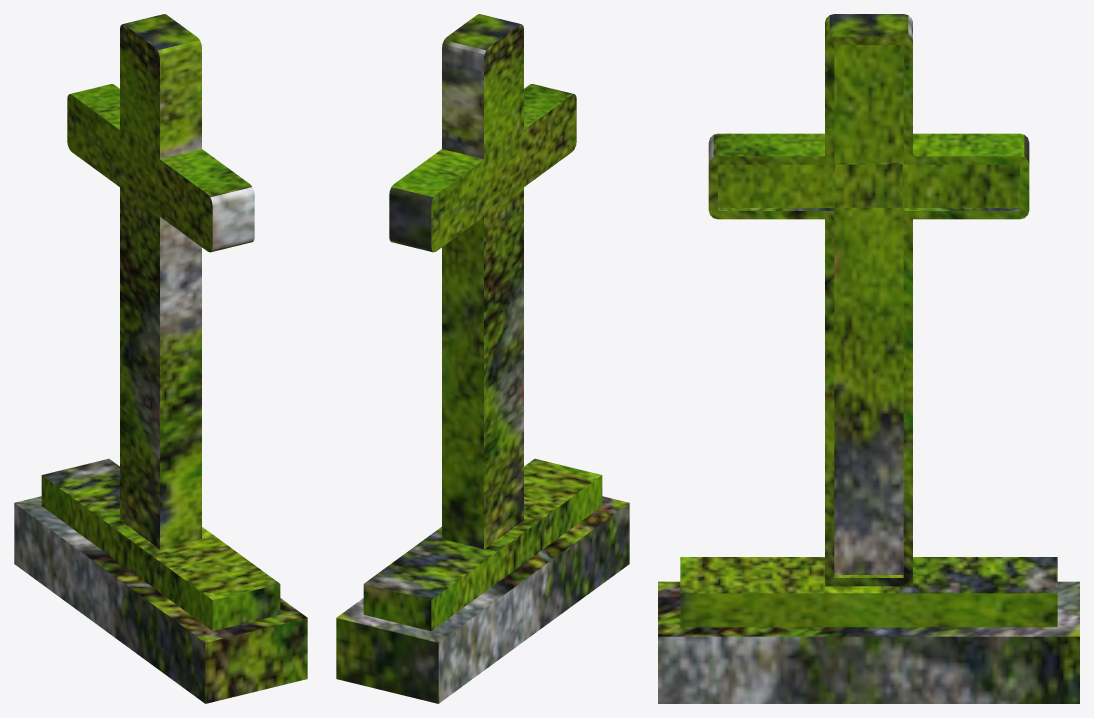
Rendered from tombstone2.obj.
3 renders of one model, left to right at view 1: azimuth 30°, elevation 25°; view 2: azimuth 150°, elevation 25°; view 3: azimuth 270°, elevation 25°, orthographic. The views are drawn at different scales.
Parts seen in each view (by area): view 1: Tombstone6.001; view 2: Tombstone6.001; view 3: Tombstone6.001.
Boxes of the visible parts, left/top/right/bottom form: Tombstone6.001: left=14, top=14, right=307, bottom=703; Tombstone6.001: left=336, top=14, right=629, bottom=703; Tombstone6.001: left=658, top=14, right=1079, bottom=703.
Size of the model in its own units: 0.1924 by 1.06 by 0.6228.
